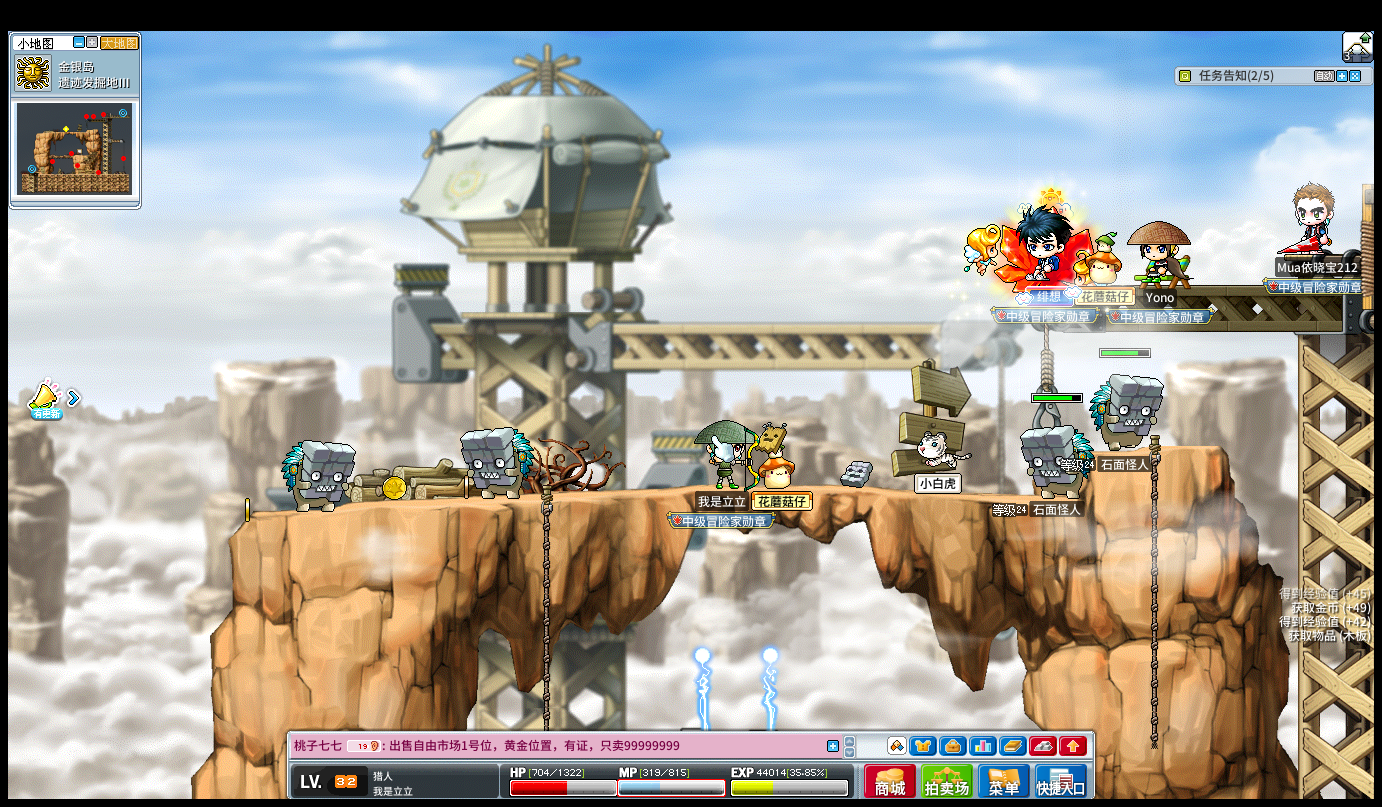floor: (255, 479, 1126, 512), (1081, 442, 1223, 457), (1125, 278, 1288, 289)
monster: (1090, 373, 1165, 450), (281, 438, 355, 513), (460, 426, 534, 500), (1019, 424, 1090, 497)
rope: (1145, 441, 1162, 752), (539, 481, 552, 682), (1041, 324, 1052, 398)
